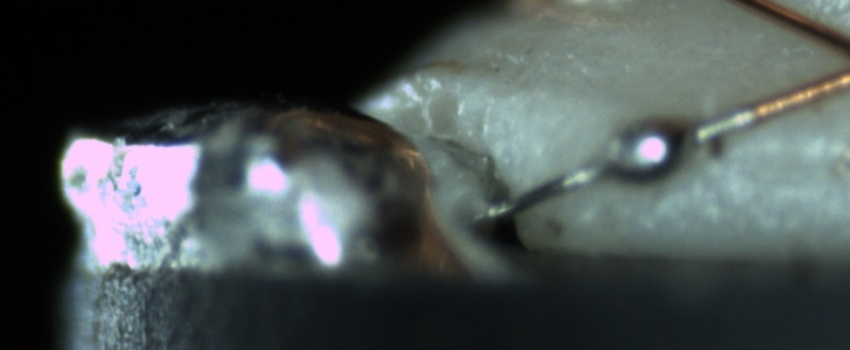DL: (719, 118, 850, 178)
TB: (599, 117, 692, 188)
TS: (493, 107, 752, 218)
TTCW: (467, 87, 802, 229)
